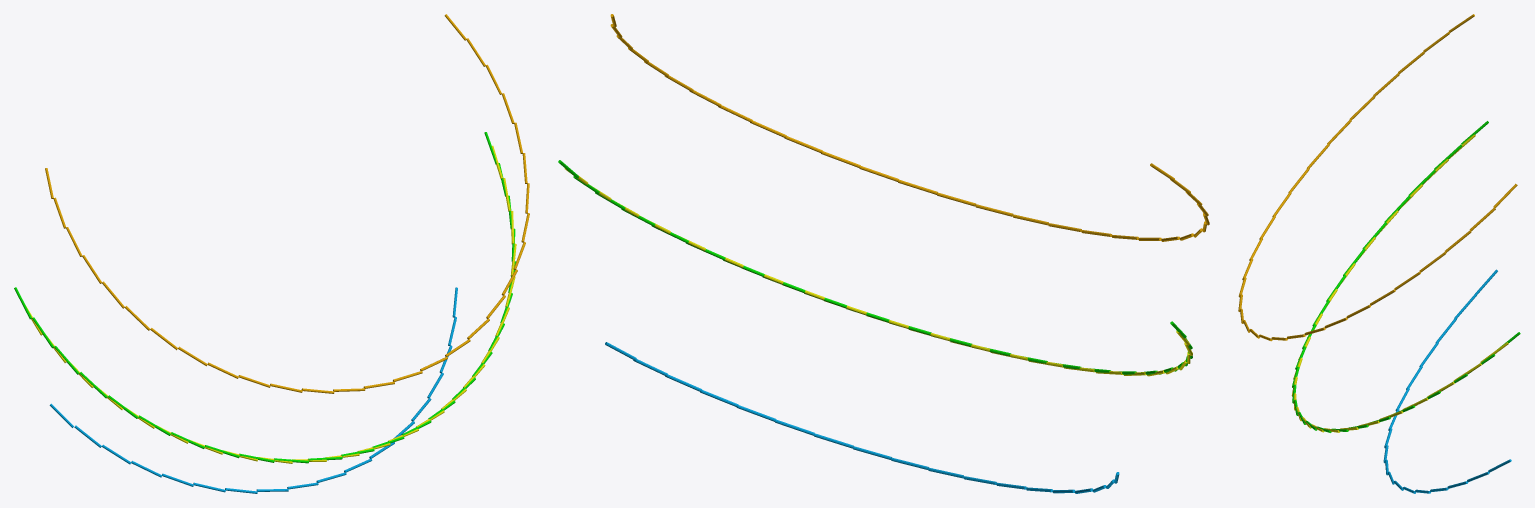
The model's file is solar_radiation_example_image_solar_paths.glb.
The picture shows the model from 3 angles, left to right: view 1: azimuth 30°, elevation 25°; view 2: azimuth 150°, elevation 25°; view 3: azimuth 270°, elevation 25°; orthographic projection. The views are drawn at different scales.
Visible parts, largest first — view 1: world; view 2: world; view 3: world.
Part boxes in pixels (bbox=[...]): world: bbox=[14, 14, 529, 493]; world: bbox=[558, 14, 1209, 493]; world: bbox=[1238, 14, 1520, 493].
Size of the model in its own units: 201 by 147 by 101.
